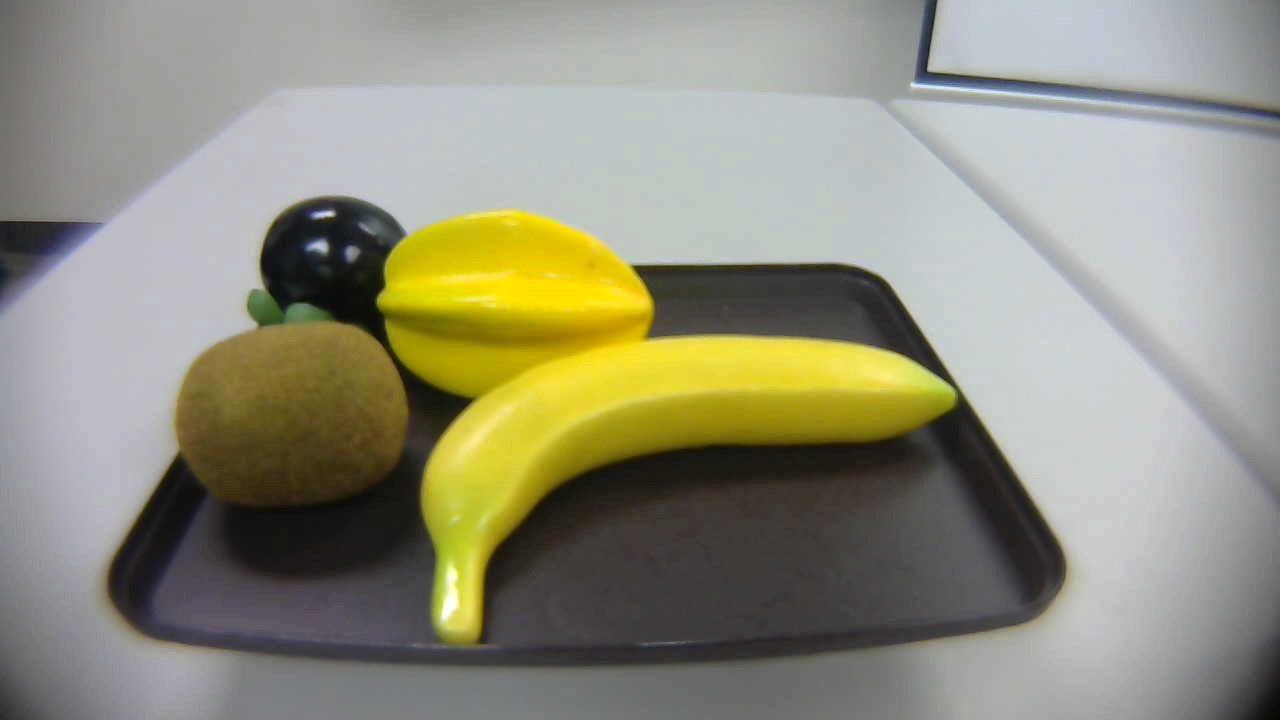banana: (413, 333, 973, 659)
kiwi fruit: (163, 323, 420, 514)
mangosteen: (238, 191, 422, 345)
star fruit: (368, 204, 660, 414)
